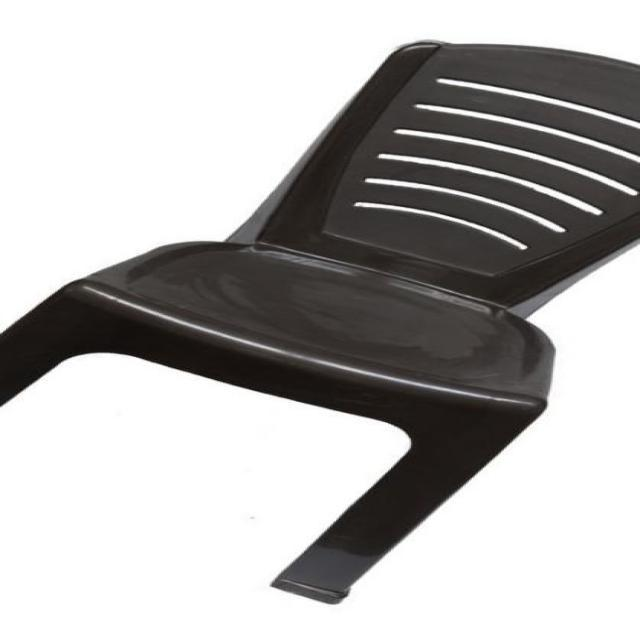chair: (3, 38, 640, 610)
